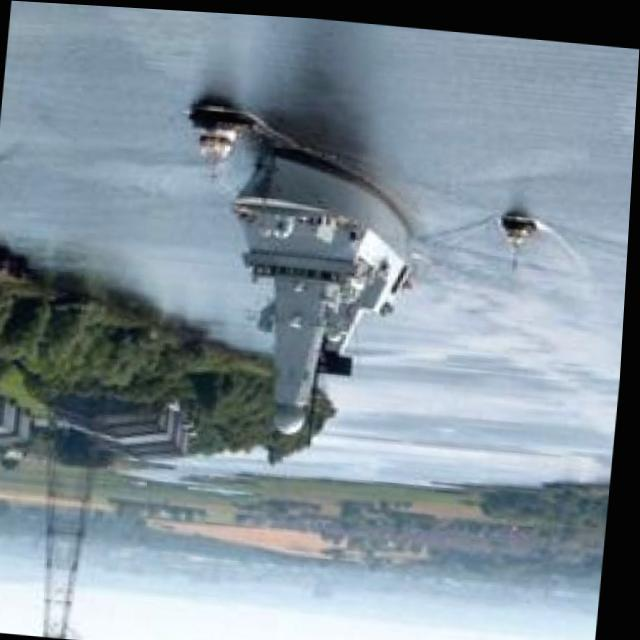ship2: (230, 142, 417, 431)
